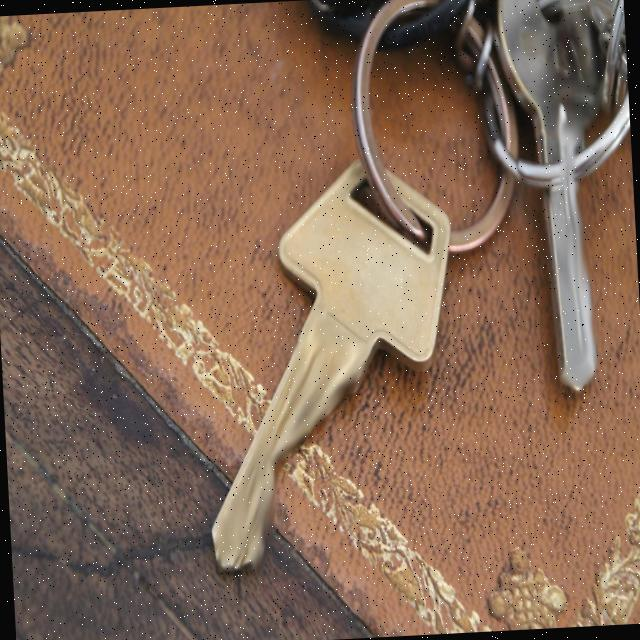Frontdoor keys: (188, 144, 471, 576), (490, 0, 640, 393)
